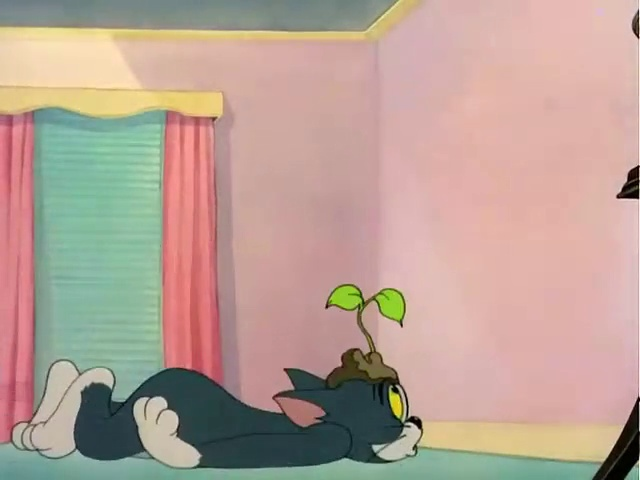tom: (21, 321, 495, 480)
